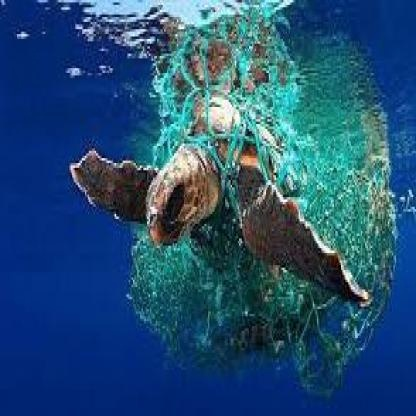net: (137, 44, 396, 379)
